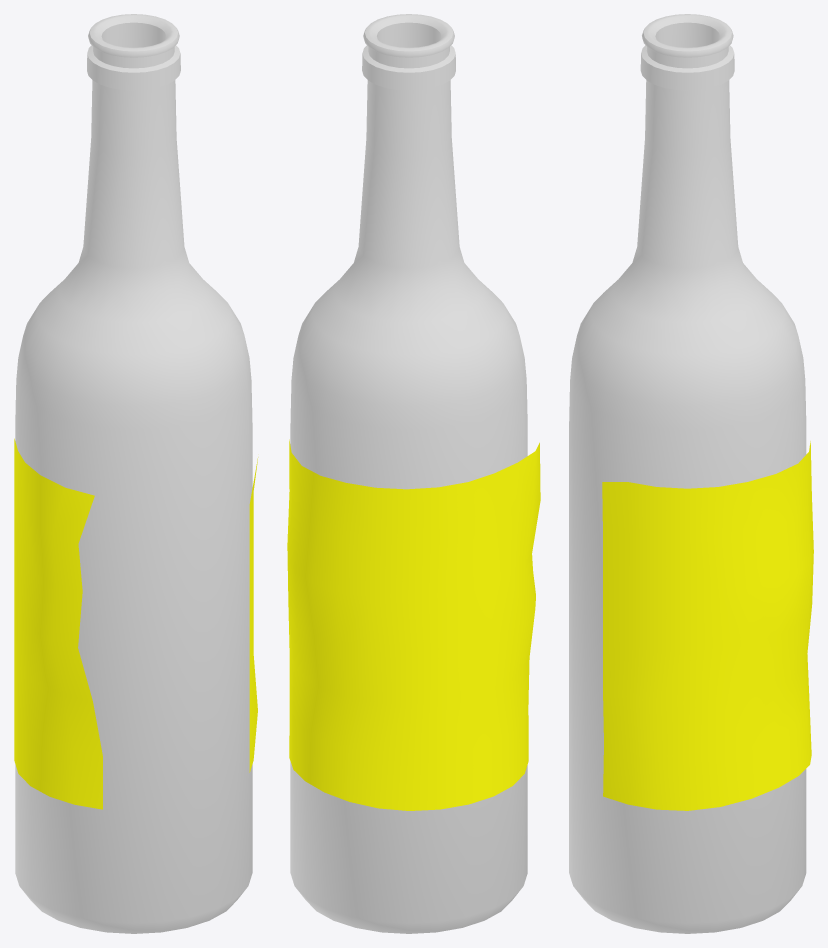
The model's file is SM_BottleOfVodka02.glb.
The picture shows the model from 3 angles, left to right: view 1: azimuth 30°, elevation 25°; view 2: azimuth 150°, elevation 25°; view 3: azimuth 270°, elevation 25°; orthographic projection.
Parts seen in each view (by area): view 1: SM_BottleOfVodka02_LOD0; view 2: SM_BottleOfVodka02_LOD0; view 3: SM_BottleOfVodka02_LOD0.
Part boxes in pixels (<box>): SM_BottleOfVodka02_LOD0: <box>14,14,258,933</box>; SM_BottleOfVodka02_LOD0: <box>287,14,540,933</box>; SM_BottleOfVodka02_LOD0: <box>569,14,813,933</box>.
Size of the model in its own units: 0.0786 by 0.2992 by 0.0774.
2 materials, 1 textured.
